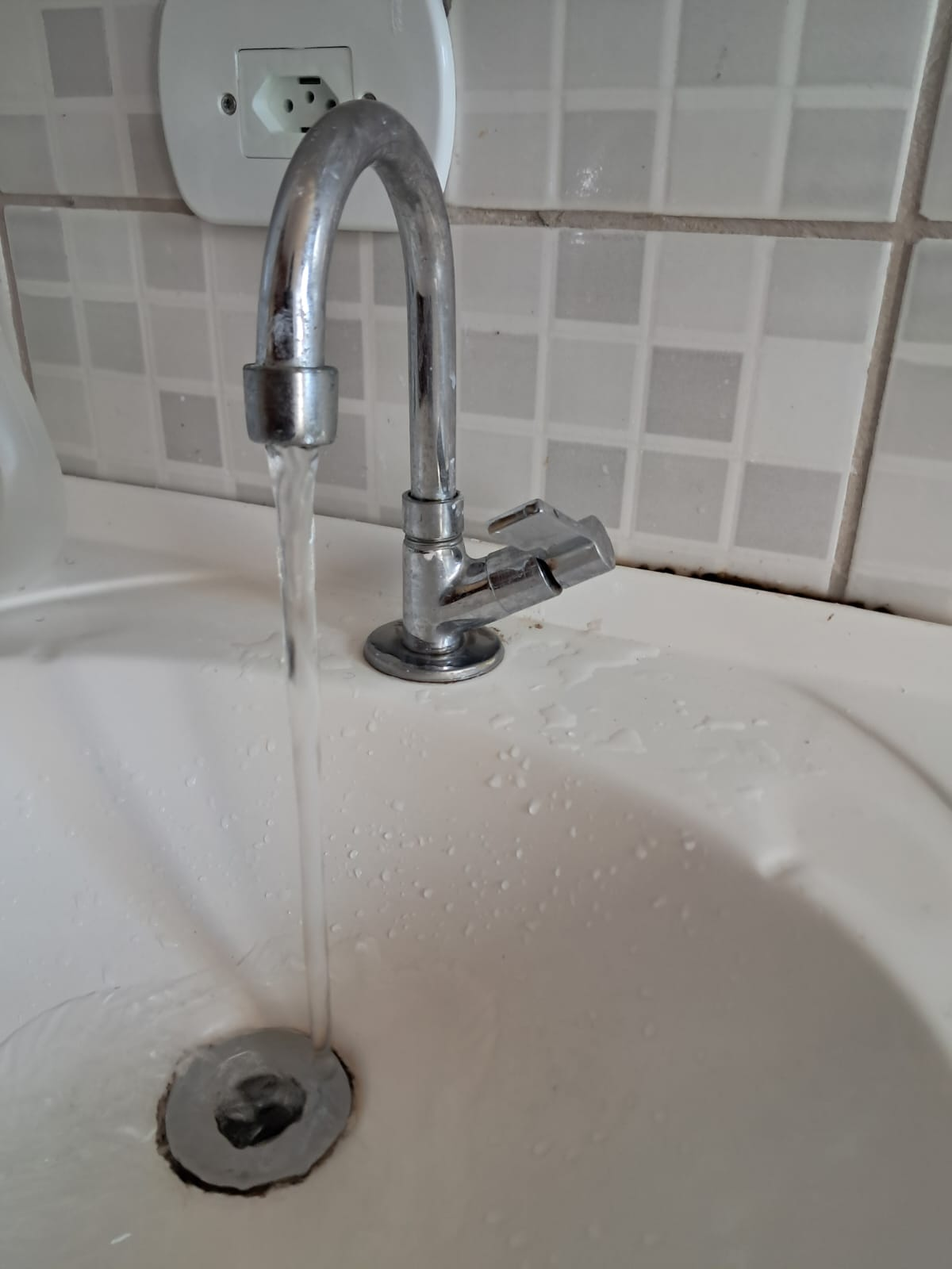torneira_aberta: (174, 90, 648, 1083)
